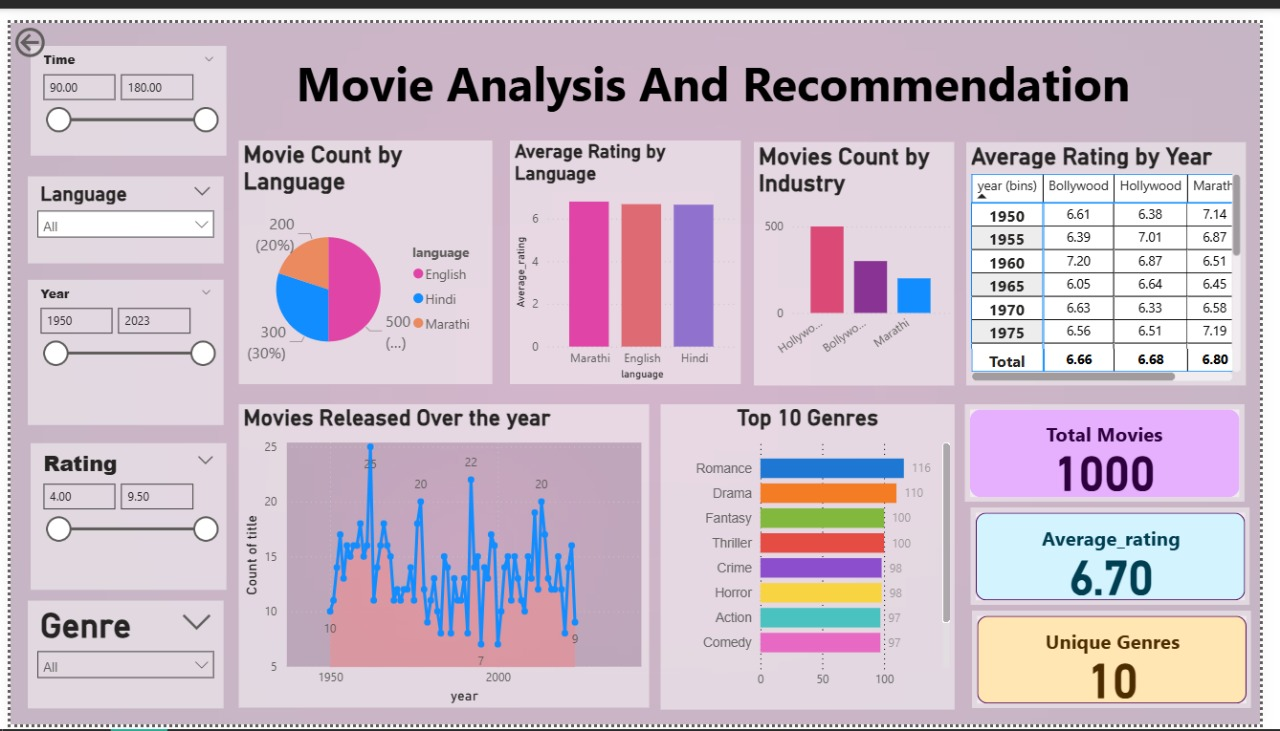

The page's visual inventory and layout, read from the dashboard file:
{"tool":"powerbi","page":{"name":"Page 1","canvas":[1280,720],"ordinal":0},"visuals":[{"type":"slicer","fields":{"Values":["balanced_movie_dataset.language"]},"box":[18.2,157.4,200.4,89.4],"z":0},{"type":"slicer","fields":{"Values":["balanced_movie_dataset.year"]},"box":[18.2,263.4,200.4,149.1],"z":1000},{"type":"slicer","fields":{"Values":["balanced_movie_dataset.rating"]},"box":[19.9,430.7,200.4,150.7],"z":2000},{"type":"slicer","fields":{"Values":["balanced_movie_dataset.genre"]},"box":[18.2,593,200.4,111],"z":3000},{"type":"textbox","box":[200.4,23.2,1053.5,82.8],"z":4000},{"type":"pieChart","title":"Movie Count  by Language","fields":{"Category":["balanced_movie_dataset.language"],"Y":["CountNonNull(balanced_movie_dataset.title)"]},"box":[233.6,120.9,260.1,250.1],"z":5000},{"type":"barChart","title":"Top 10 Genres","fields":{"Category":["balanced_movie_dataset.genre"],"Y":["CountNonNull(balanced_movie_dataset.title)"]},"box":[665.9,390.9,301.5,313.1],"z":6000},{"type":"areaChart","title":"Movies Released Over the year","fields":{"Category":["balanced_movie_dataset.year"],"Y":["CountNonNull(balanced_movie_dataset.title)"]},"box":[233.6,390.9,420.7,311.4],"z":7000},{"type":"columnChart","title":"Average Rating by Language","fields":{"Category":["balanced_movie_dataset.language"],"Y":["balanced_movie_dataset.Average_rating"]},"box":[511.9,120.9,236.9,250.1],"z":8000},{"type":"columnChart","title":"Movies Count by Industry","fields":{"Category":["balanced_movie_dataset.industry"],"Y":["CountNonNull(balanced_movie_dataset.title)"]},"box":[762,122.6,205.4,250.1],"z":9000},{"type":"slicer","fields":{"Values":["balanced_movie_dataset.Average Duration (Min)"]},"box":[19.9,23.2,200.4,112.6],"z":10000},{"type":"pivotTable","title":"Average Rating by Year","fields":{"Rows":["balanced_movie_dataset.year (bins)"],"Values":["balanced_movie_dataset.Average_rating","select"],"Columns":["balanced_movie_dataset.industry"]},"box":[979,122.6,286.6,250.1],"z":10001},{"type":"actionButton","box":[0,0,100,40],"z":10002},{"type":"cardVisual","fields":{"Data":["balanced_movie_dataset.Total Movies"]},"box":[978.3,391.7,286.7,100],"z":10003},{"type":"cardVisual","fields":{"Data":["balanced_movie_dataset.Average_rating"]},"box":[983.3,496.7,286,100],"z":10004},{"type":"cardVisual","fields":{"Data":["balanced_movie_dataset.Unique Genres"]},"box":[985,603.3,286,100],"z":10005}]}

Visuals, with their boxes on the page's 1280x720 design canvas (x1, y1, x2, y2). These are canvas units, not pixel positions in the 1280x731 screenshot, which may show the page scaled, cropped or inside an application window:
slicer - balanced_movie_dataset.language: bbox(18, 157, 219, 247)
slicer - balanced_movie_dataset.year: bbox(18, 263, 219, 412)
slicer - balanced_movie_dataset.rating: bbox(20, 431, 220, 581)
slicer - balanced_movie_dataset.genre: bbox(18, 593, 219, 704)
textbox: bbox(200, 23, 1254, 106)
"Movie Count  by Language" pieChart: bbox(234, 121, 494, 371)
"Top 10 Genres" barChart: bbox(666, 391, 967, 704)
"Movies Released Over the year" areaChart: bbox(234, 391, 654, 702)
"Average Rating by Language" columnChart: bbox(512, 121, 749, 371)
"Movies Count by Industry" columnChart: bbox(762, 123, 967, 373)
slicer - balanced_movie_dataset.Average Duration (Min): bbox(20, 23, 220, 136)
"Average Rating by Year" pivotTable: bbox(979, 123, 1266, 373)
actionButton: bbox(0, 0, 100, 40)
cardVisual - balanced_movie_dataset.Total Movies: bbox(978, 392, 1265, 492)
cardVisual - balanced_movie_dataset.Average_rating: bbox(983, 497, 1269, 597)
cardVisual - balanced_movie_dataset.Unique Genres: bbox(985, 603, 1271, 703)
